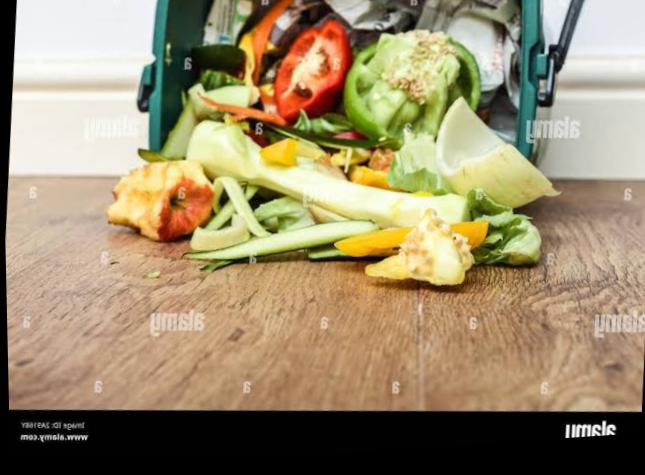organic: (187, 121, 464, 227), (343, 30, 479, 145), (436, 98, 557, 207), (107, 161, 213, 241), (274, 18, 352, 124), (186, 221, 375, 261), (365, 216, 473, 285), (466, 189, 540, 266), (335, 228, 411, 257)
